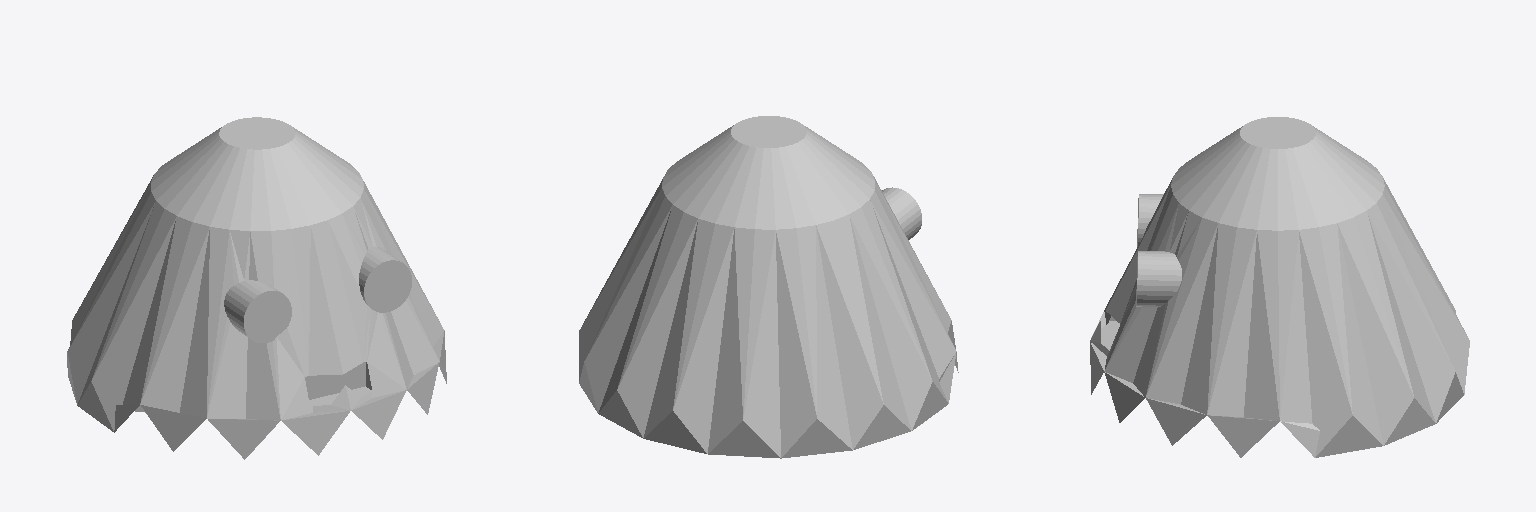
File: big_ghost.obj
3 views of the same model, side by side, from view 1: azimuth 30°, elevation 25°; view 2: azimuth 150°, elevation 25°; view 3: azimuth 270°, elevation 25° (orthographic).
Parts seen in each view (by area): view 1: big_ghost_Cylinder.002; view 2: big_ghost_Cylinder.002; view 3: big_ghost_Cylinder.002.
Part boxes in pixels (bbox=[...]): big_ghost_Cylinder.002: bbox=[67, 117, 446, 459]; big_ghost_Cylinder.002: bbox=[579, 116, 958, 458]; big_ghost_Cylinder.002: bbox=[1090, 117, 1469, 457].
Bounding box in the file's own units: 3.56 × 2.54 × 3.56.